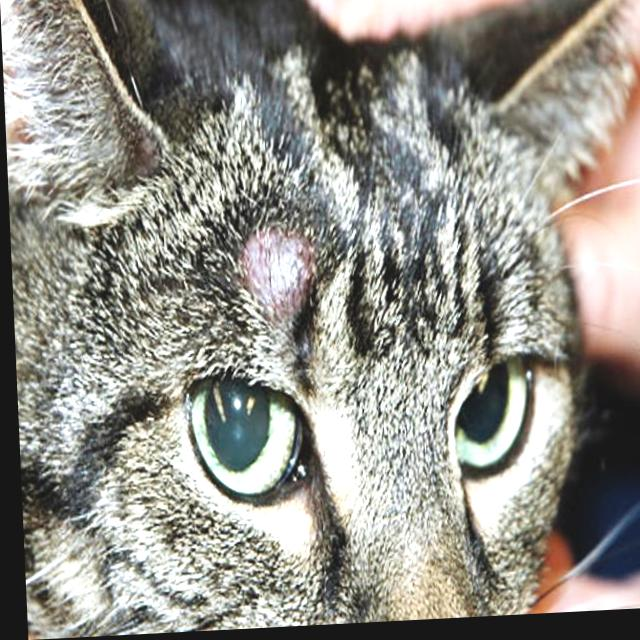lump_and_bump: (239, 229, 312, 321)
